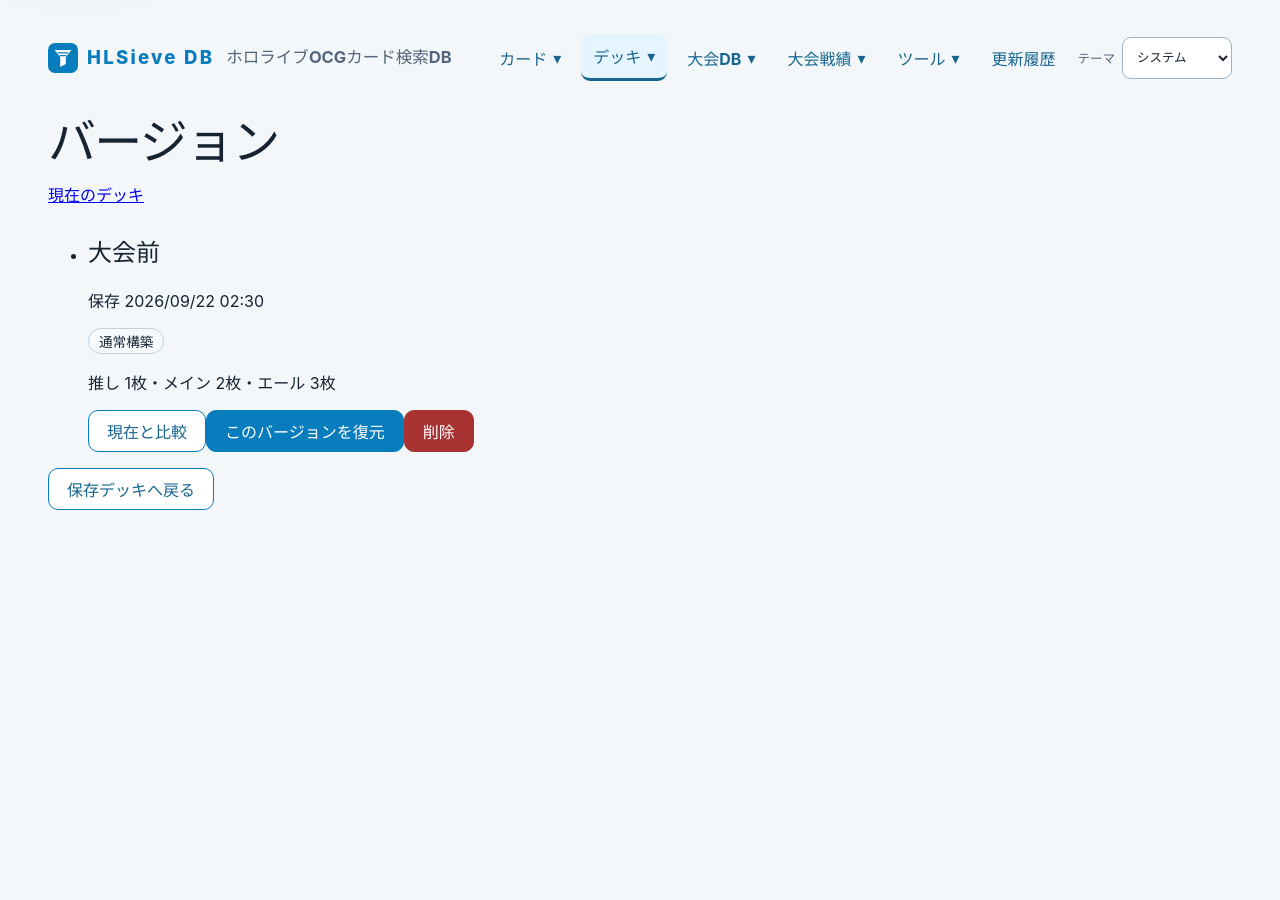
Scenario: putting a snapshot back › says so when it could not be saved
expect the heading "大会前" is shown: met, box [88, 238, 160, 267]
Step 1. Click the button "このバージョンを復元" → (305, 430), box [206, 410, 404, 452]
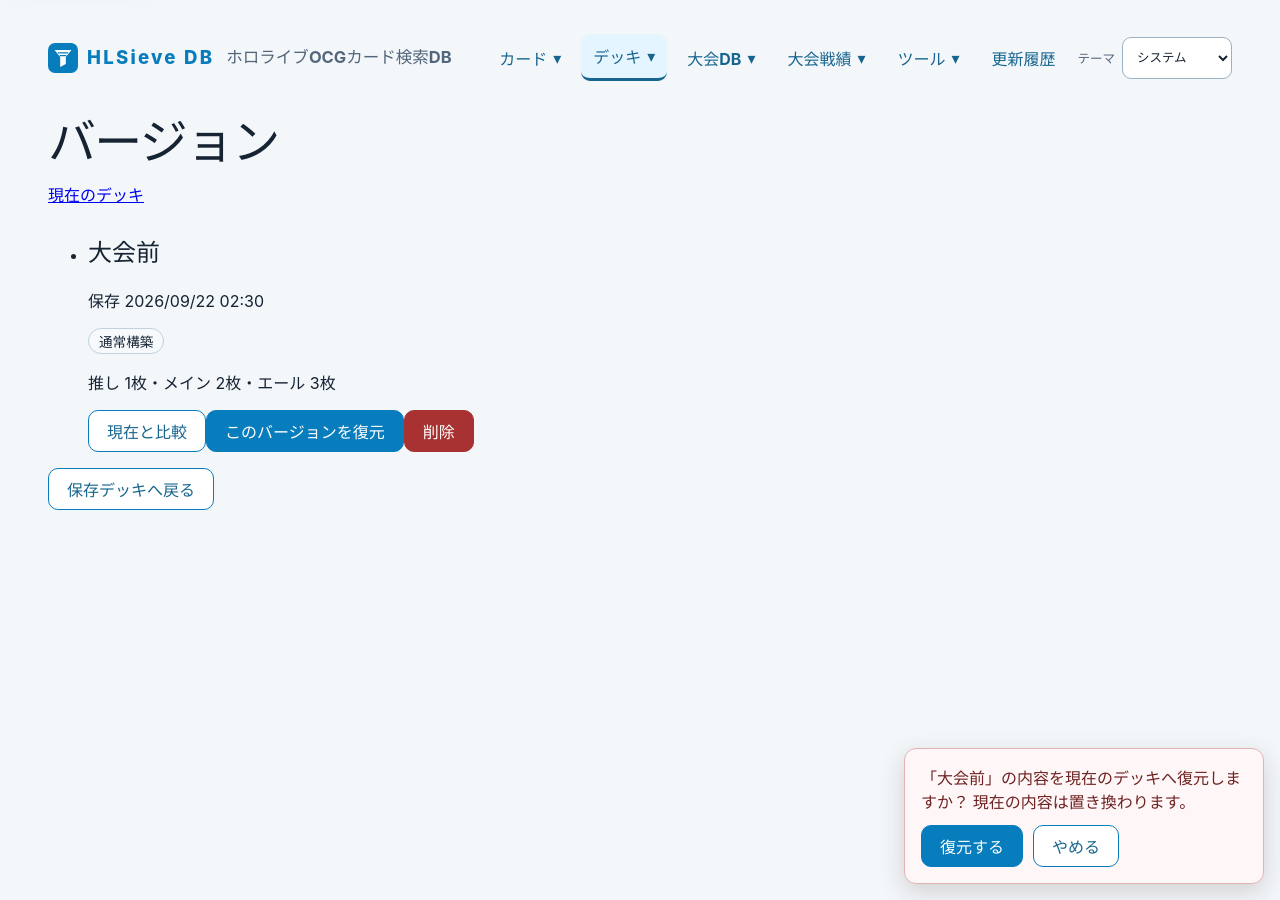
Step 2. Click the button "復元する" → (972, 846), box [921, 825, 1023, 867]
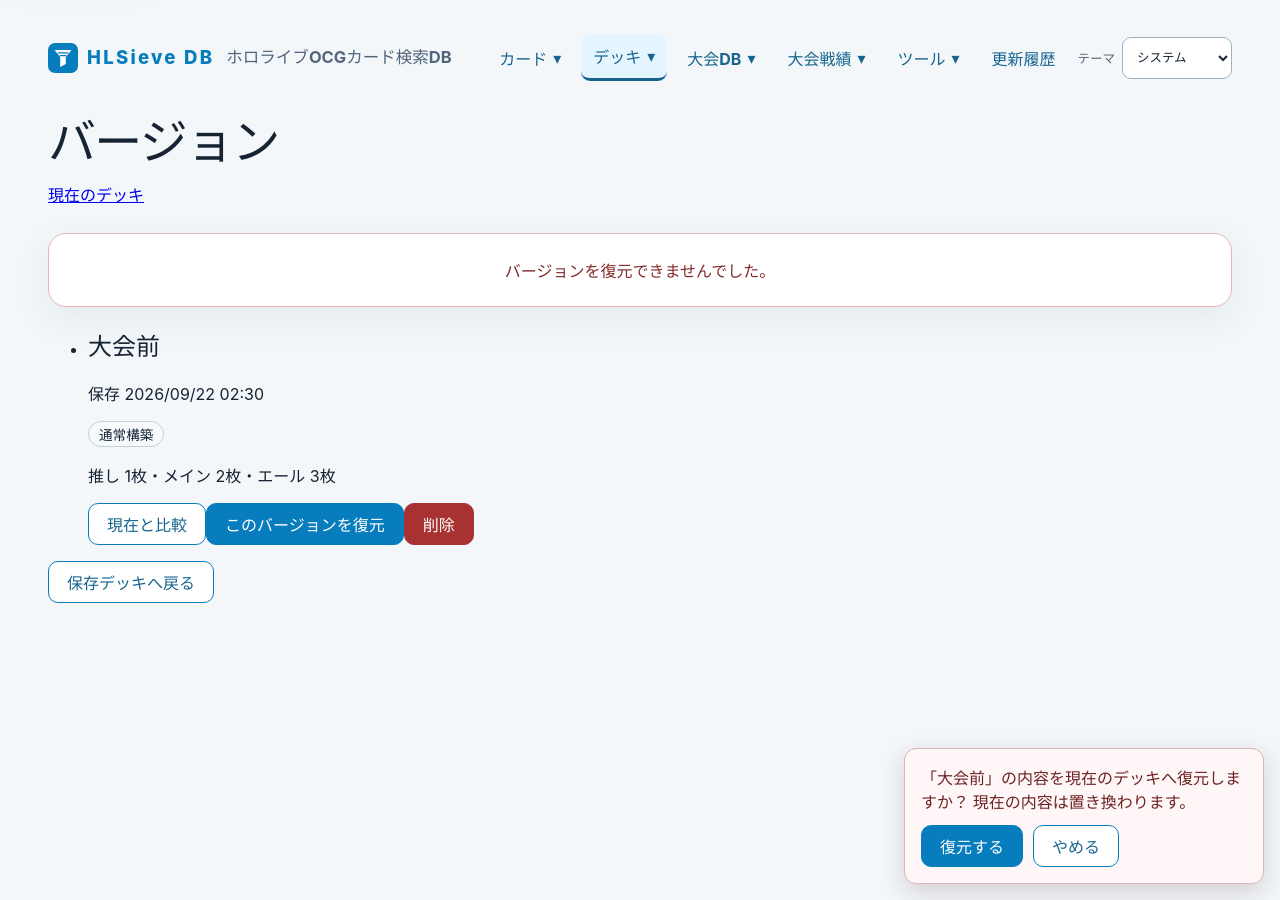
expect the text "バージョンを復元できませんでした。" is shown: met, box [48, 233, 1232, 307]
